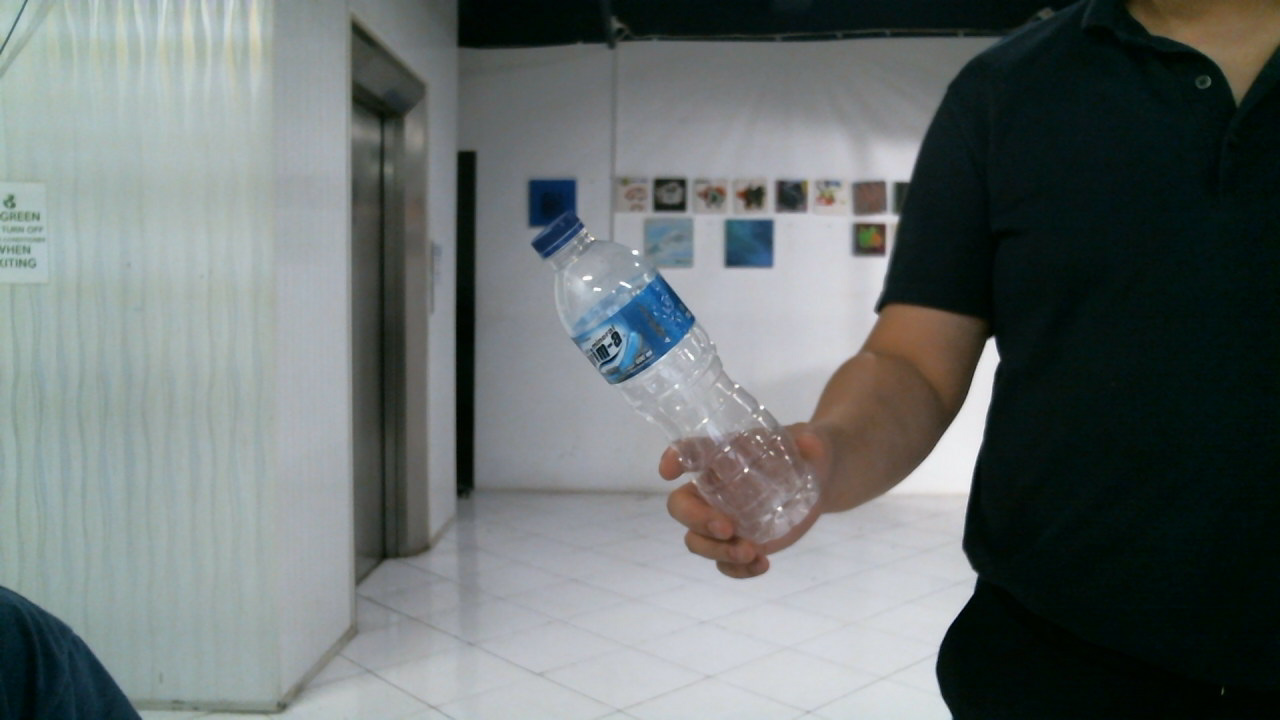Bottle: (534, 210, 821, 543)
